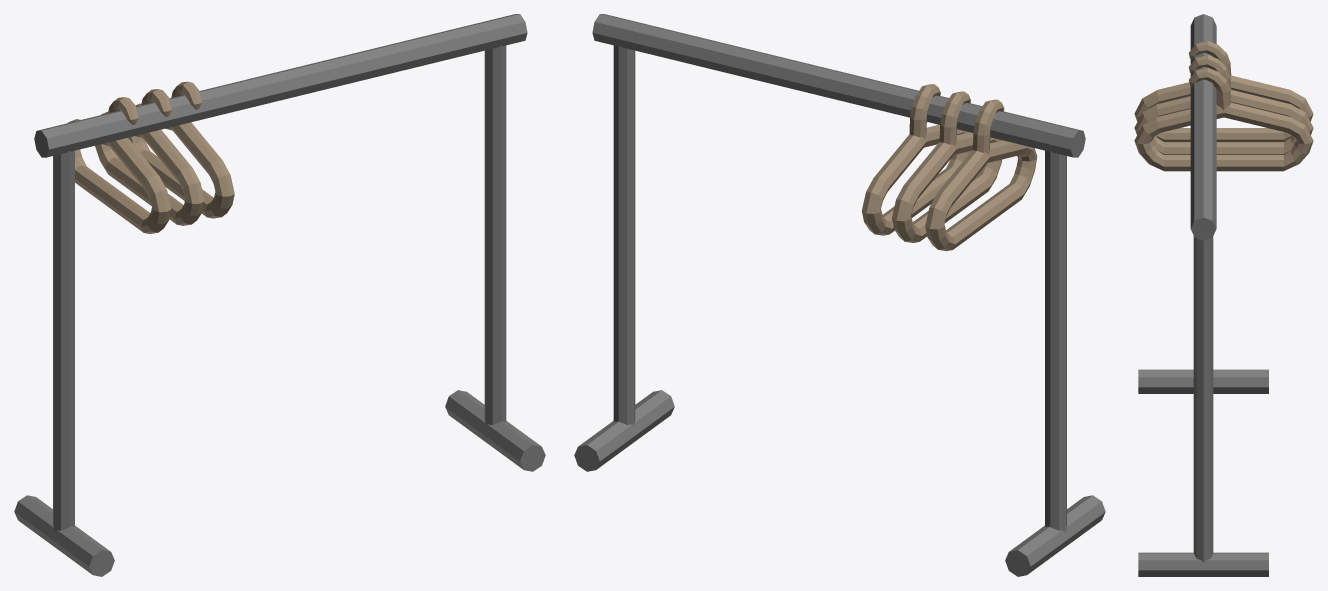
Rendered from Hangars.fbx.
3 renders of one model, left to right at view 1: azimuth 30°, elevation 25°; view 2: azimuth 150°, elevation 25°; view 3: azimuth 270°, elevation 25°, orthographic. The views are drawn at different scales.
Parts seen in each view (by area): view 1: Cylinder.007, Cylinder.008, Cylinder.009, Cylinder.010; view 2: Cylinder.007, Cylinder.008, Cylinder.009, Cylinder.010; view 3: Cylinder.007, Cylinder.010, Cylinder.008, Cylinder.009.
Boxes of the visible parts, <box> form: Cylinder.007: <box>14,14,545,576</box>; Cylinder.008: <box>67,97,171,233</box>; Cylinder.009: <box>95,89,204,225</box>; Cylinder.010: <box>128,81,234,218</box>; Cylinder.007: <box>574,14,1105,576</box>; Cylinder.008: <box>925,99,1037,251</box>; Cylinder.009: <box>892,91,1001,242</box>; Cylinder.010: <box>862,84,971,235</box>; Cylinder.007: <box>1138,14,1268,576</box>; Cylinder.010: <box>1134,67,1313,171</box>; Cylinder.008: <box>1134,40,1313,141</box>; Cylinder.009: <box>1134,54,1313,154</box>.
Bounding box in the file's own units: 490 × 426 × 183.
